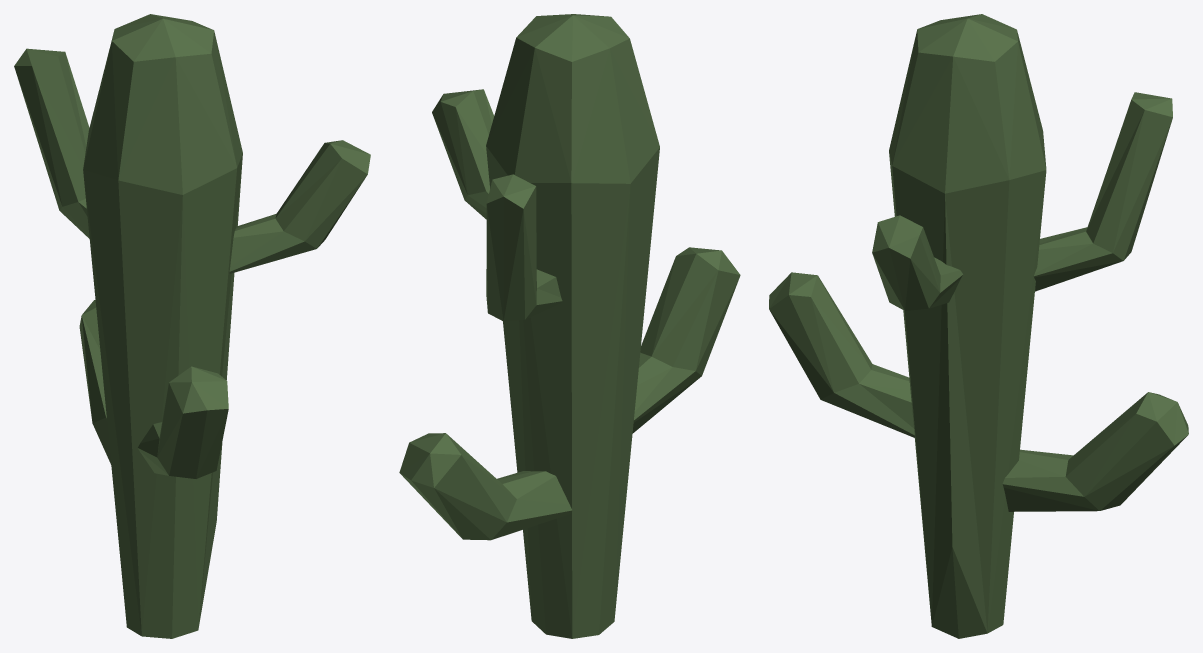
The model's file is Cactus_2.lod2.glb.
The picture shows the model from 3 angles, left to right: view 1: azimuth 30°, elevation 25°; view 2: azimuth 150°, elevation 25°; view 3: azimuth 270°, elevation 25°; orthographic projection.
Visible parts, largest first — view 1: Cactus_2; view 2: Cactus_2; view 3: Cactus_2.
Part boxes in pixels (box(x1,y1,x2,y2)): Cactus_2: box(14, 14, 370, 638); Cactus_2: box(399, 14, 740, 638); Cactus_2: box(769, 14, 1188, 638).
Size of the model in its own units: 0.7038 by 1.69 by 1.06.
